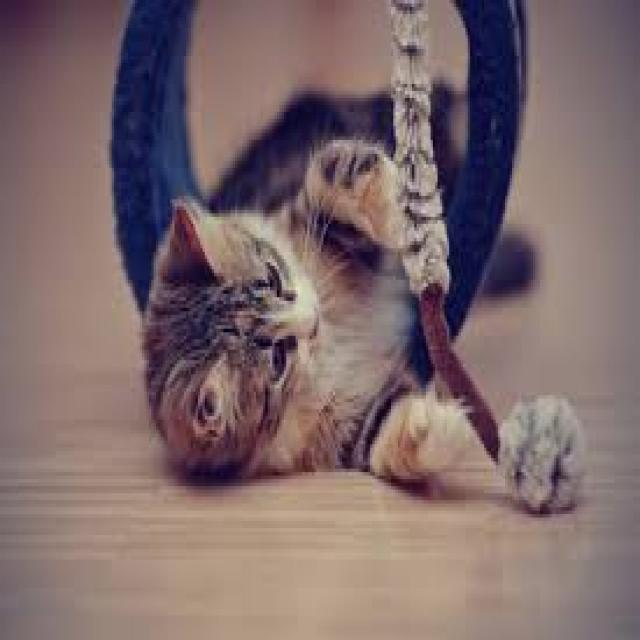Cat: (140, 74, 474, 502)
